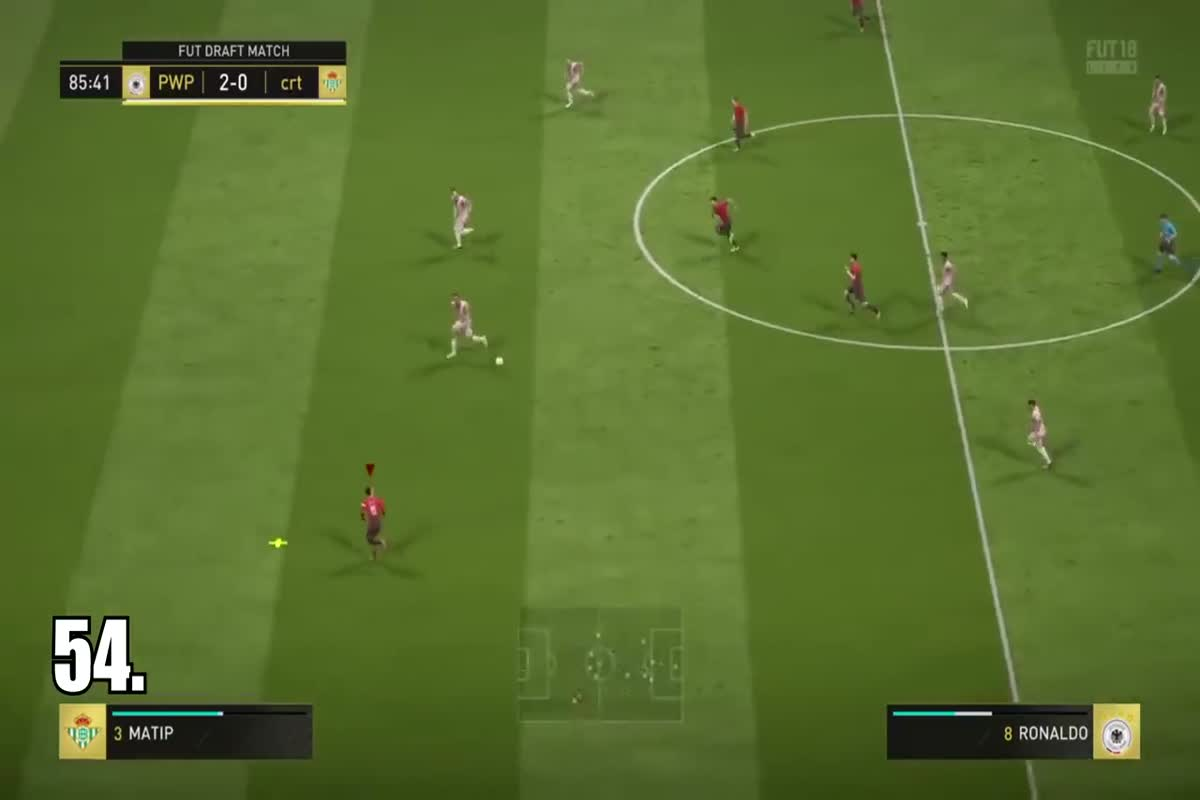ball: (487, 353, 514, 371)
